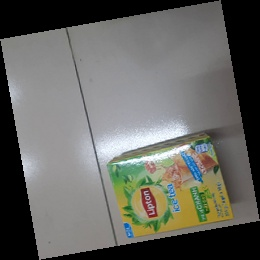LipTon: (106, 130, 235, 239)
